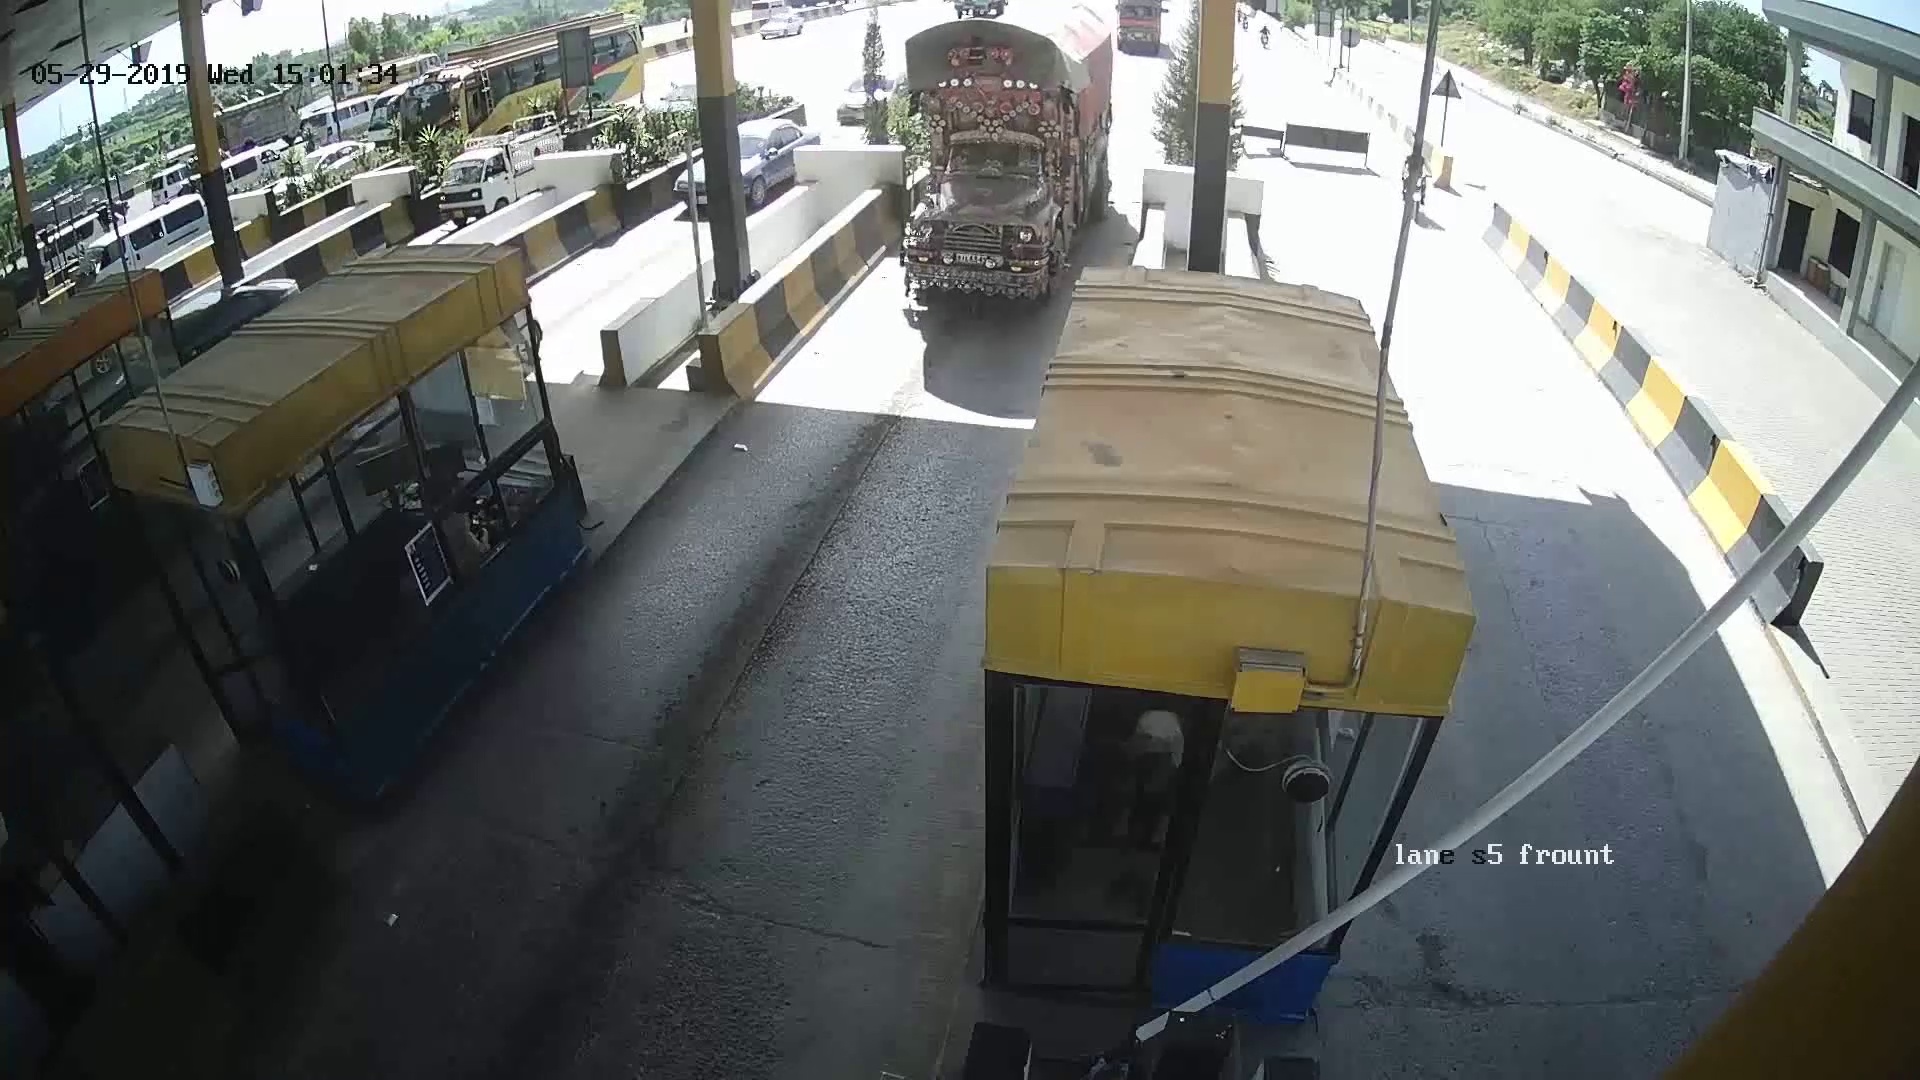truck: (893, 32, 1125, 293)
